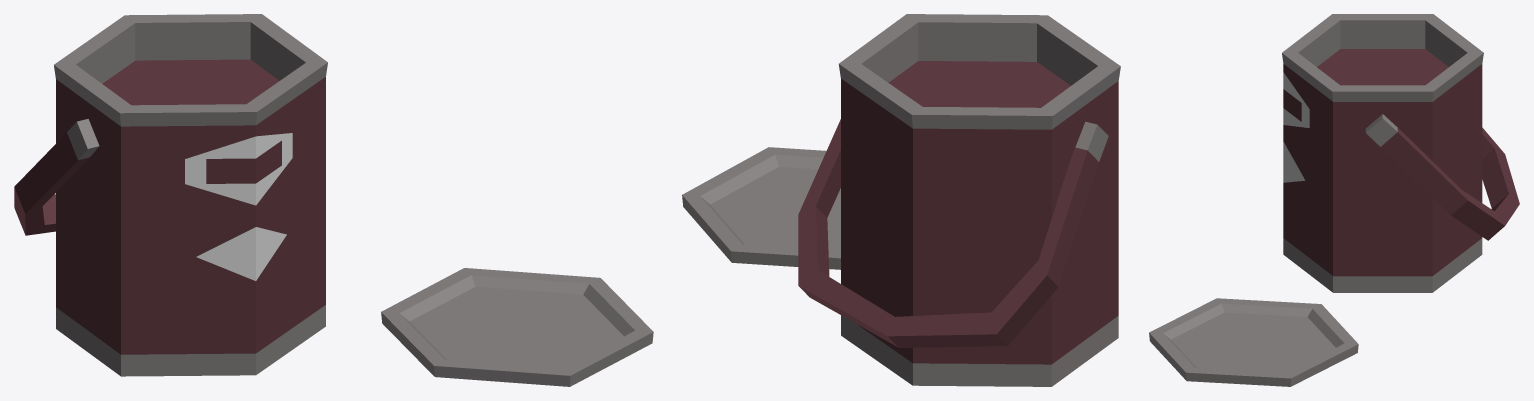
File: can-paint-open.fbx
3 views of the same model, side by side, from view 1: azimuth 30°, elevation 25°; view 2: azimuth 150°, elevation 25°; view 3: azimuth 270°, elevation 25° (orthographic). The views are drawn at different scales.
Parts seen in each view (by area): view 1: can-paint-open; view 2: can-paint-open; view 3: can-paint-open.
Boxes of the visible parts, bbox=[...] form: can-paint-open: bbox=[14, 14, 653, 386]; can-paint-open: bbox=[682, 14, 1120, 386]; can-paint-open: bbox=[1149, 14, 1519, 386].
Size of the model in its own units: 0.3443 by 0.1867 by 0.3075.
